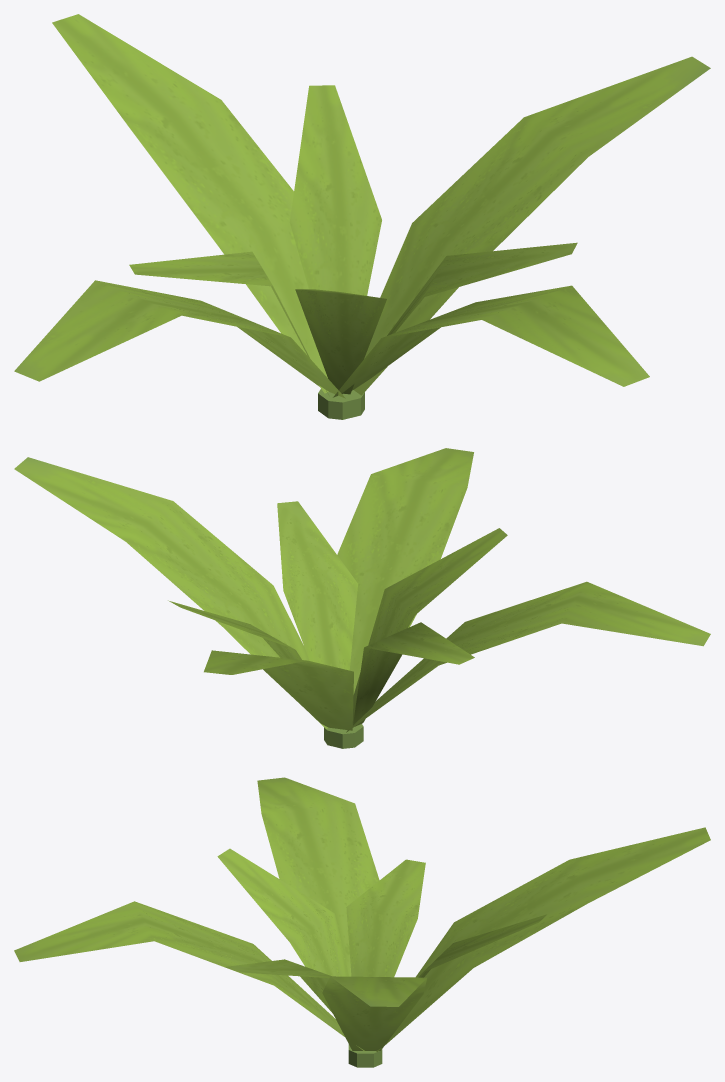
File: SM_fern.fbx
The picture shows the model from 3 angles, top to bottom: view 1: azimuth 30°, elevation 25°; view 2: azimuth 150°, elevation 25°; view 3: azimuth 270°, elevation 25°; orthographic projection. The views are drawn at different scales.
Visible parts, largest first — view 1: fern; view 2: fern; view 3: fern.
Part boxes in pixels (x1,y1,x2,y2): fern: (14, 14, 710, 419); fern: (14, 448, 710, 748); fern: (14, 777, 710, 1067).
Size of the model in its own units: 13 by 4.17 by 13.01.
